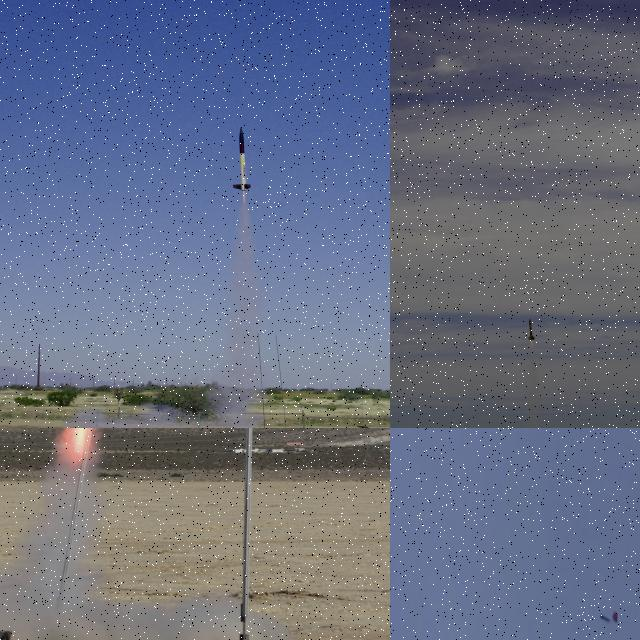Rocket: (232, 127, 252, 192), (528, 318, 535, 342), (600, 614, 610, 622)
